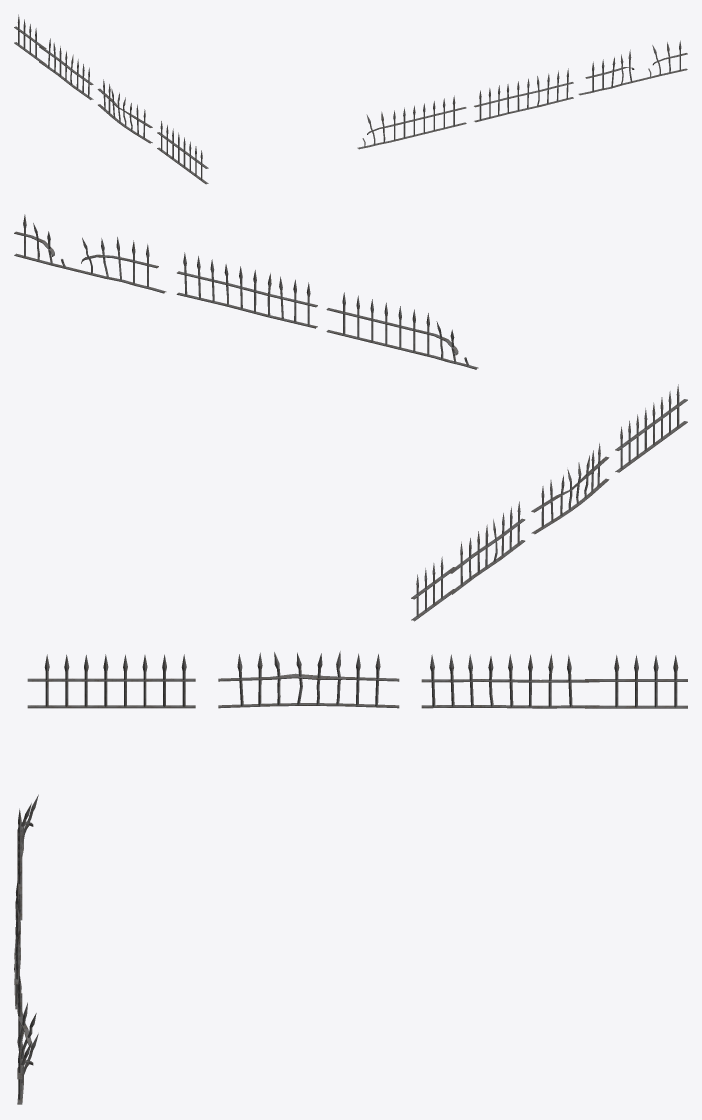
The model's file is Cemetery_STR_OuterWall_04_Fence.fbx.
The picture shows the model from 3 angles, top to bottom: view 1: azimuth 30°, elevation 25°; view 2: azimuth 150°, elevation 25°; view 3: azimuth 270°, elevation 25°; orthographic projection. The views are drawn at different scales.
Visible parts, largest first — view 1: Cemetery_STR_OuterWall_04_Fence; view 2: Cemetery_STR_OuterWall_04_Fence; view 3: Cemetery_STR_OuterWall_04_Fence.
Part boxes in pixels (x1,y1,x2,y2): Cemetery_STR_OuterWall_04_Fence: (14, 14, 687, 184); Cemetery_STR_OuterWall_04_Fence: (14, 214, 687, 621); Cemetery_STR_OuterWall_04_Fence: (14, 651, 687, 1104).
Size of the model in its own units: 1945 by 120 by 1374.
Materials: 1 (1 with a texture image).
